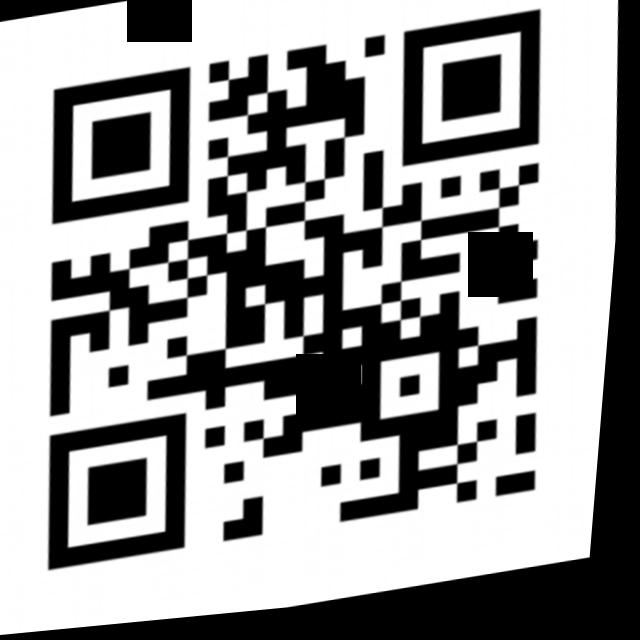QR_CODE: (10, 3, 586, 589)
